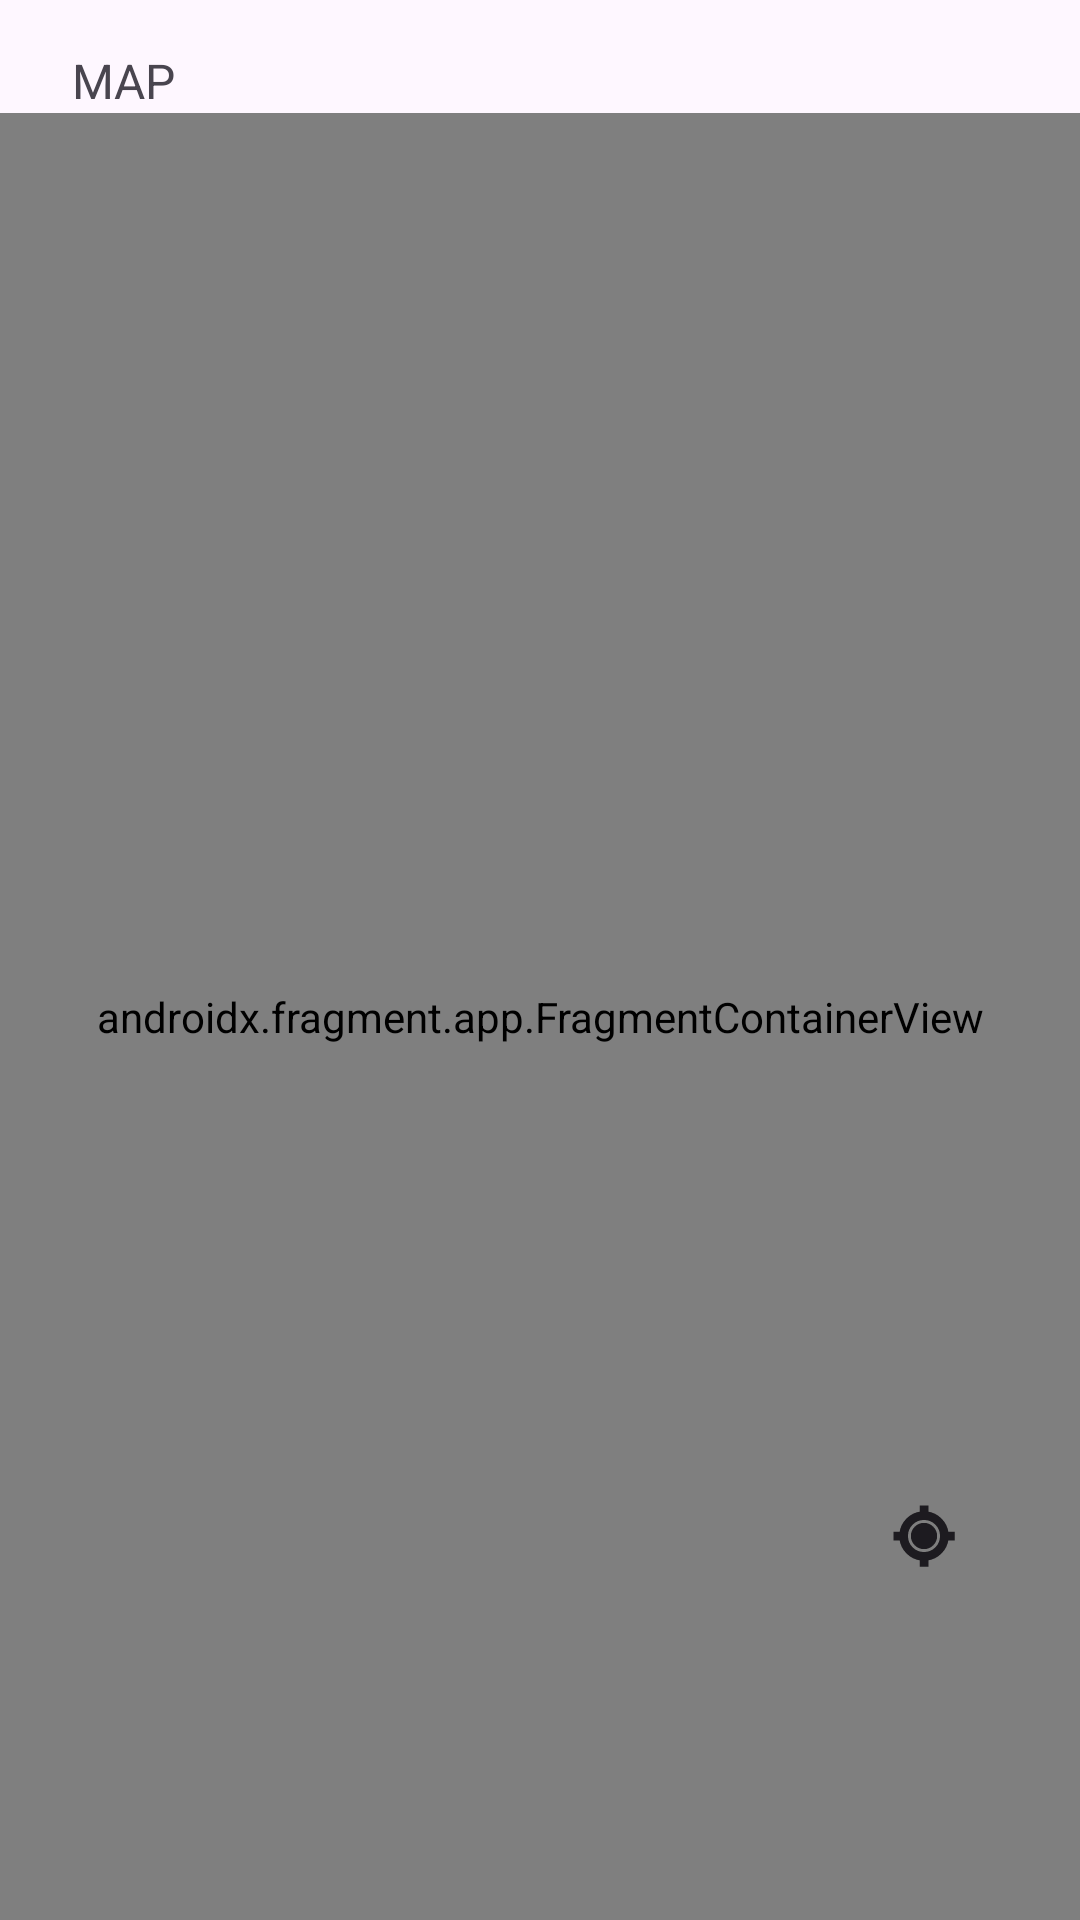

Icons on this 1080px×1920px Android screen, each with its box as (x1, y1, x2, y2):
current location: (893, 1505, 955, 1567)
